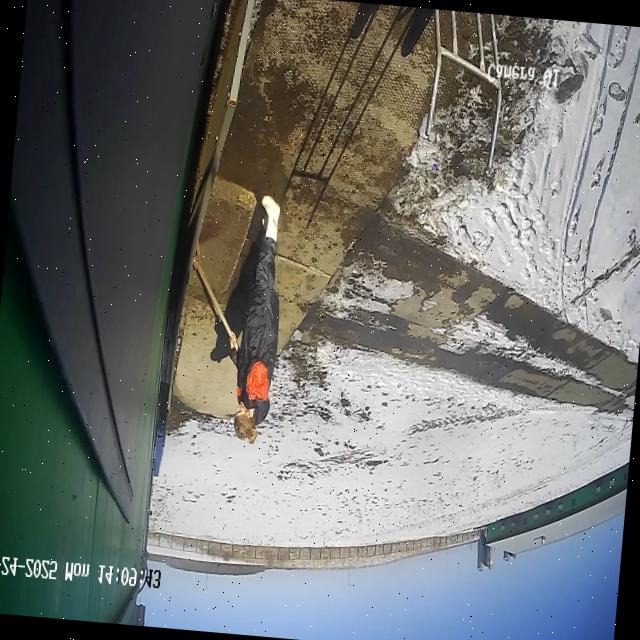Red uniform: (219, 190, 292, 446)
